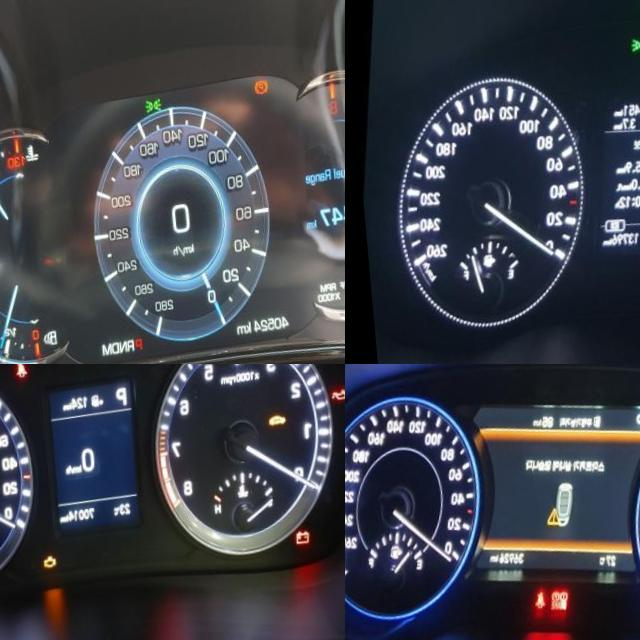SideLamp: (142, 107, 160, 123), (627, 44, 640, 65)
